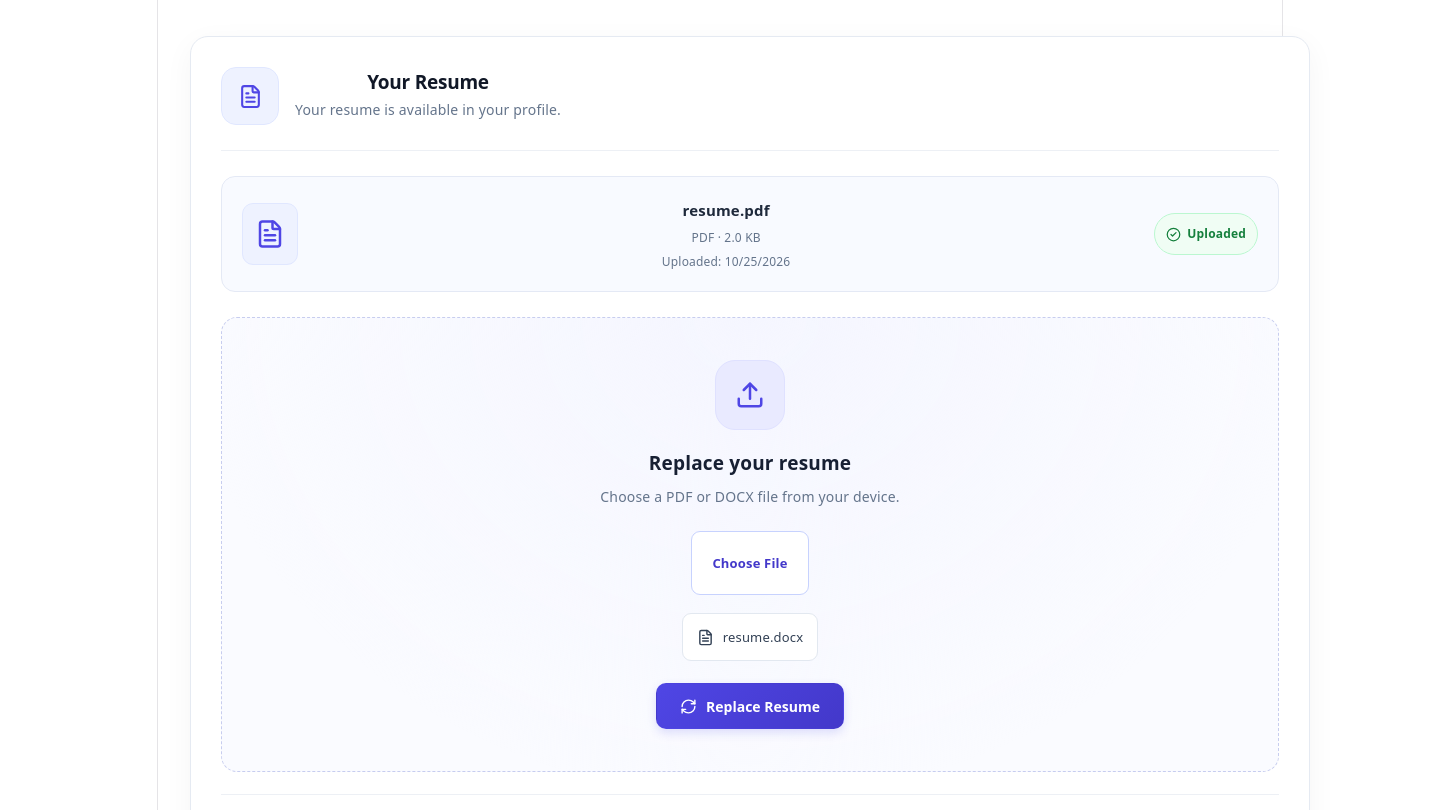
ResumeManagement › replaces an existing resume successfully
Earlier steps of the test are not shown.
Click the button "Replace Resume" at (750, 706), box [656,683,844,729]
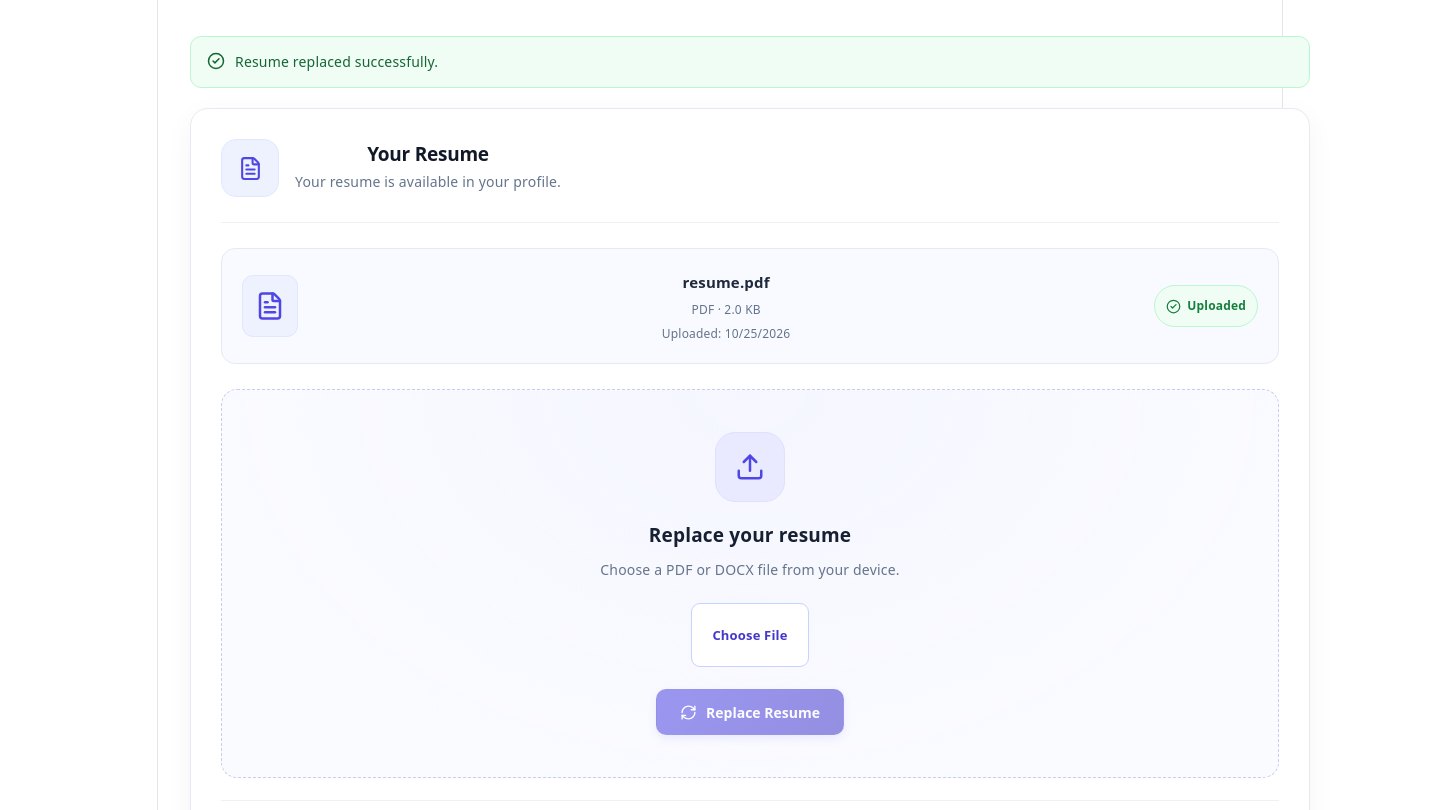
Result: the text "Resume replaced successfully." is shown at [235,51,438,73]
